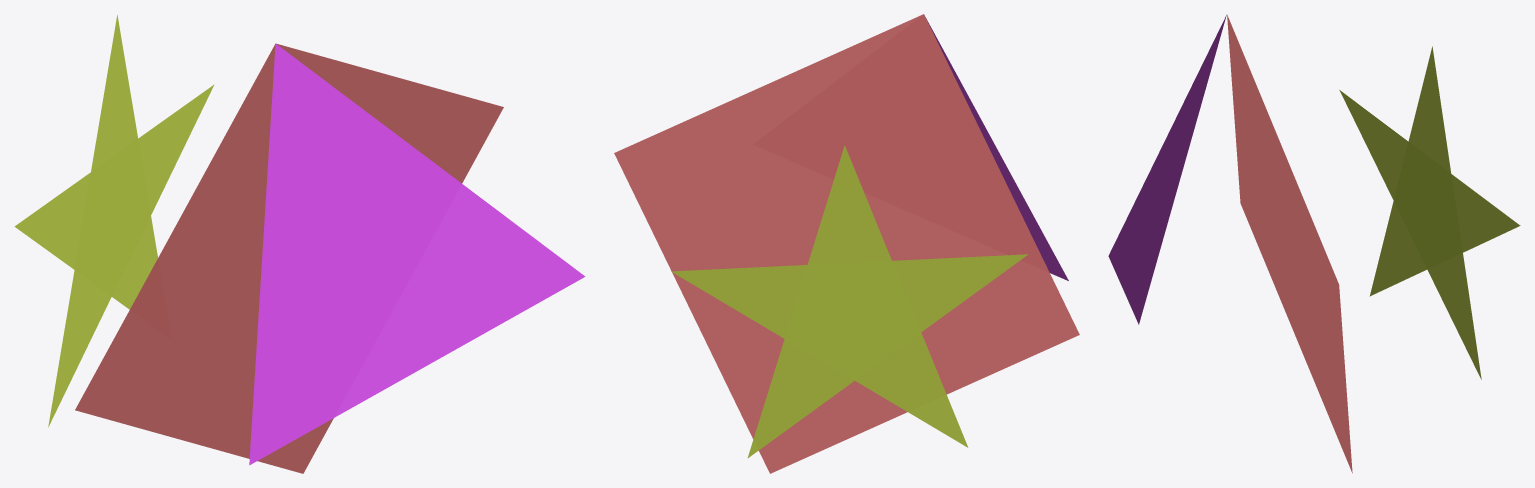
File: GreatDirhombicosidodecahedronF.obj
3 views of the same model, side by side, from view 1: azimuth 30°, elevation 25°; view 2: azimuth 150°, elevation 25°; view 3: azimuth 270°, elevation 25° (orthographic). The views are drawn at different scales.
Bounding box in the file's own units: 1.34 × 1.34 × 1.19.
